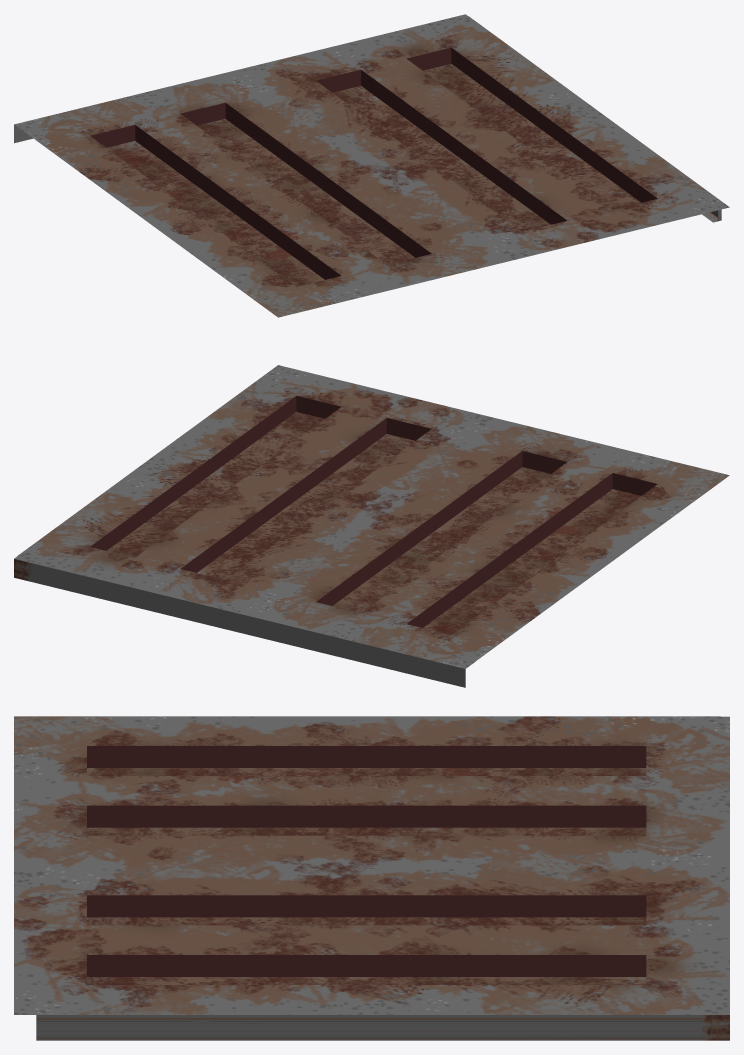
File: Sinkholes.fbx
The picture shows the model from 3 angles, top to bottom: view 1: azimuth 30°, elevation 25°; view 2: azimuth 150°, elevation 25°; view 3: azimuth 270°, elevation 25°; orthographic projection. The views are drawn at different scales.
Visible parts, largest first — view 1: Sinkholes; view 2: Sinkholes; view 3: Sinkholes.
Boxes of the visible parts, box(x1,y1,x2,y2) form: Sinkholes: box(14, 14, 729, 317); Sinkholes: box(14, 365, 729, 687); Sinkholes: box(14, 716, 729, 1040).
Size of the model in its own units: 200 by 8.11 by 203.
Materials: 2 (2 with a texture image).
